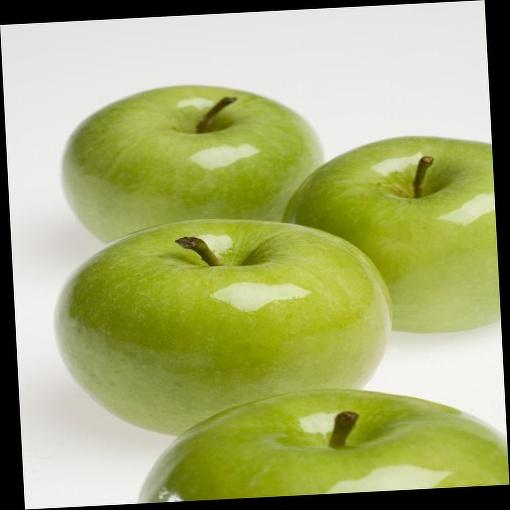green apple: (54, 218, 403, 438), (283, 134, 497, 338), (124, 389, 507, 495), (57, 82, 322, 232)
